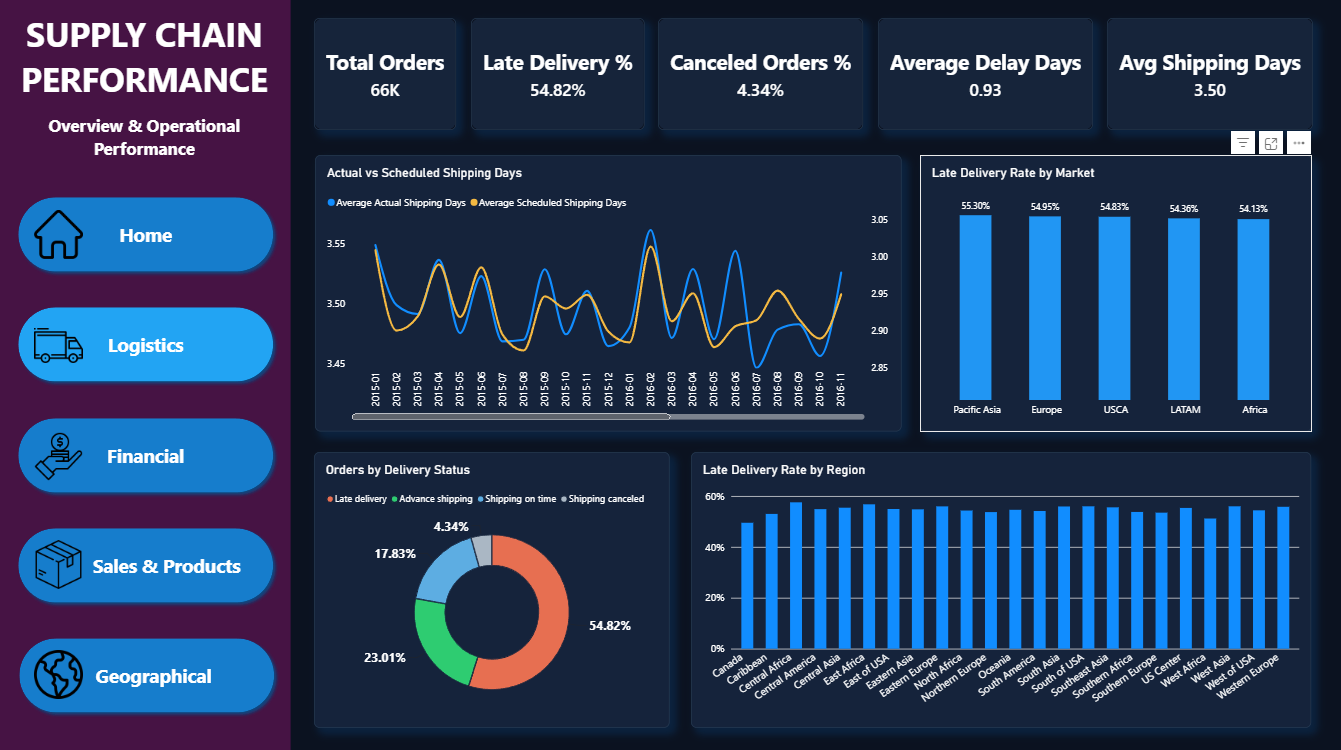

Layout of this report page (visuals, bound fields, positions):
{"tool":"powerbi","page":{"name":"Logistics","canvas":[1920,1080],"ordinal":1},"visuals":[{"type":"shape","box":[0,0,1920,1080],"z":0},{"type":"shape","box":[0,0,418,1080],"z":1000},{"type":"cardVisual","title":"Total Orders","fields":{"Data":["Medidas.Total Orders"]},"box":[452,28,203,160],"z":2000},{"type":"shape","box":[20,433.5,382,124],"z":2000,"group":"g1"},{"type":"shape","box":[20,591,382,124],"z":2000,"group":"g2"},{"type":"cardVisual","title":"Total Orders","fields":{"Data":["Medidas.Late Delivery %"]},"box":[675.2,28,248,160],"z":3000},{"type":"shape","box":[20,275.5,382,124],"z":3000,"group":"g5"},{"type":"shape","box":[20,748.5,382,124],"z":3000,"group":"g3"},{"type":"cardVisual","title":"Total Orders","fields":{"Data":["Medidas.Canceled Orders %"]},"box":[943.5,28,293,160],"z":4000},{"type":"shape","box":[22,906,382,124],"z":4000,"group":"g4"},{"type":"cardVisual","title":"Total Orders","fields":{"Data":["Medidas.Average Delay Days"]},"box":[1256.8,28,307,160],"z":5000},{"type":"cardVisual","title":"Total Orders","fields":{"Data":["Medidas.Avg Shipping Days"]},"box":[1584,28,294,160],"z":6000},{"type":"textbox","box":[0,18,418,230],"z":7000},{"type":"group","id":"g1","title":"Grupo 2","box":[20,433.5,382,124],"z":8000},{"type":"group","id":"g2","title":"Grupo 3","box":[20,591,382,124],"z":9000},{"type":"group","id":"g3","title":"Grupo 4","box":[20,748.5,382,124],"z":10000},{"type":"image","box":[52,620,70,70],"z":11000,"group":"g2"},{"type":"group","id":"g4","title":"Grupo 5","box":[22,906,382,124],"z":11000},{"type":"lineChart","title":"Actual vs Scheduled Shipping Days","fields":{"Category":["Calendar.Year Month"],"Y":["Medidas.Average Actual Shipping Days"],"Y2":["Medidas.Average Scheduled Shipping Days"]},"box":[452.4,224.4,838,395],"z":12000},{"type":"image","box":[52,302.5,70,70],"z":12000,"group":"g5"},{"type":"image","box":[52,462,70,70],"z":12000,"group":"g1"},{"type":"image","box":[52,932,70,70],"z":12000,"group":"g4"},{"type":"columnChart","title":"Late Delivery Rate by Market","fields":{"Category":["DataCoSupplyChainDataset.Market"],"Y":["Medidas.Late Delivery %"]},"box":[1317.4,224.4,560,395],"z":13000},{"type":"image","box":[52,774,70,70],"z":13000,"group":"g3"},{"type":"donutChart","title":"Orders by Delivery Status","fields":{"Category":["DataCoSupplyChainDataset.Delivery Status"],"Y":["Medidas.Total Orders"]},"box":[452,648,508,394],"z":14000},{"type":"columnChart","title":"Late Delivery Rate by Region","fields":{"Category":["DataCoSupplyChainDataset.Order Region"],"Y":["Medidas.Late Delivery %"]},"box":[990,648,886,394],"z":15000},{"type":"group","id":"g5","title":"Grupo 1","box":[20,275.5,382,124],"z":16000}]}

Visuals, with their boxes in screenshot pixels (x1, y1, x2, y2), scaled from the page's 1920x1080 canvas onto the 1341x750 screenshot:
shape: pyautogui.locateOnScreen(0, 0, 1340, 749)
shape: pyautogui.locateOnScreen(0, 0, 292, 749)
"Total Orders" cardVisual: pyautogui.locateOnScreen(316, 19, 457, 131)
shape: pyautogui.locateOnScreen(14, 301, 281, 387)
shape: pyautogui.locateOnScreen(14, 410, 281, 497)
"Total Orders" cardVisual: pyautogui.locateOnScreen(472, 19, 645, 131)
shape: pyautogui.locateOnScreen(14, 191, 281, 277)
shape: pyautogui.locateOnScreen(14, 520, 281, 606)
"Total Orders" cardVisual: pyautogui.locateOnScreen(659, 19, 864, 131)
shape: pyautogui.locateOnScreen(15, 629, 282, 715)
"Total Orders" cardVisual: pyautogui.locateOnScreen(878, 19, 1092, 131)
"Total Orders" cardVisual: pyautogui.locateOnScreen(1106, 19, 1312, 131)
textbox: pyautogui.locateOnScreen(0, 12, 292, 172)
"Grupo 2" group: pyautogui.locateOnScreen(14, 301, 281, 387)
"Grupo 3" group: pyautogui.locateOnScreen(14, 410, 281, 497)
"Grupo 4" group: pyautogui.locateOnScreen(14, 520, 281, 606)
image: pyautogui.locateOnScreen(36, 431, 85, 479)
"Grupo 5" group: pyautogui.locateOnScreen(15, 629, 282, 715)
"Actual vs Scheduled Shipping Days" lineChart: pyautogui.locateOnScreen(316, 156, 901, 430)
image: pyautogui.locateOnScreen(36, 210, 85, 259)
image: pyautogui.locateOnScreen(36, 321, 85, 369)
image: pyautogui.locateOnScreen(36, 647, 85, 696)
"Late Delivery Rate by Market" columnChart: pyautogui.locateOnScreen(920, 156, 1311, 430)
image: pyautogui.locateOnScreen(36, 538, 85, 586)
"Orders by Delivery Status" donutChart: pyautogui.locateOnScreen(316, 450, 670, 724)
"Late Delivery Rate by Region" columnChart: pyautogui.locateOnScreen(691, 450, 1310, 724)
"Grupo 1" group: pyautogui.locateOnScreen(14, 191, 281, 277)
